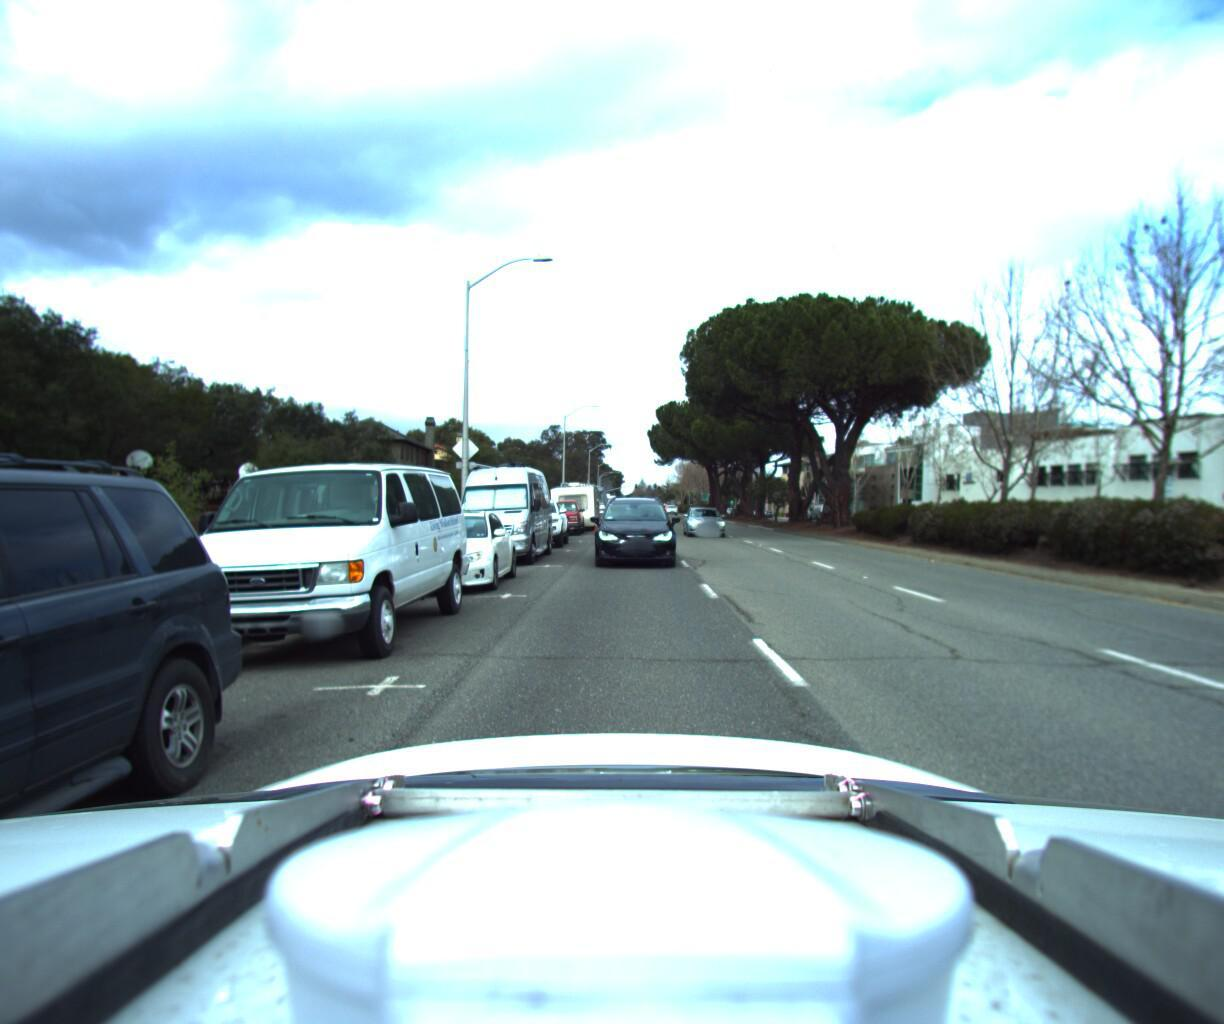bus: (572, 477, 609, 517)
car: (142, 447, 471, 682), (445, 451, 553, 568), (386, 506, 513, 596), (594, 488, 676, 566), (506, 494, 569, 545), (538, 491, 584, 533), (682, 499, 727, 534)
other_vehicle: (545, 471, 599, 527), (556, 474, 602, 522)
